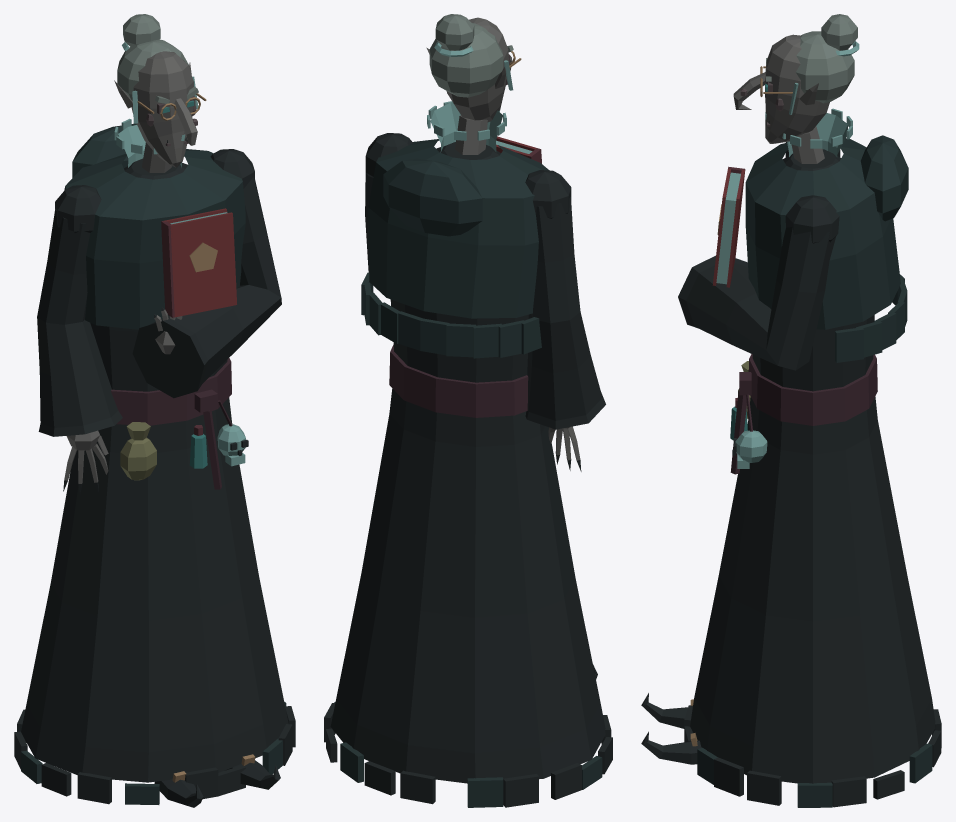
File: helga.glb
3 views of the same model, side by side, from view 1: azimuth 30°, elevation 25°; view 2: azimuth 150°, elevation 25°; view 3: azimuth 270°, elevation 25° (orthographic). The views are drawn at different scales.
Parts seen in each view (by area): view 1: Corp, BratDrept, Cap; view 2: Corp, BratDrept, Cap; view 3: Corp, Cap.
Boxes of the visible parts, left/top/right/bottom form: Corp: left=14, top=118, right=295, bottom=807; BratDrept: left=37, top=185, right=122, bottom=494; Cap: left=114, top=14, right=206, bottom=172; Corp: left=324, top=101, right=612, bottom=807; BratDrept: left=525, top=170, right=605, bottom=471; Cap: left=426, top=14, right=521, bottom=154; Corp: left=641, top=108, right=941, bottom=807; Cap: left=733, top=14, right=859, bottom=163.
Bounding box in the file's own units: 0.7042 × 1.97 × 0.7326.
